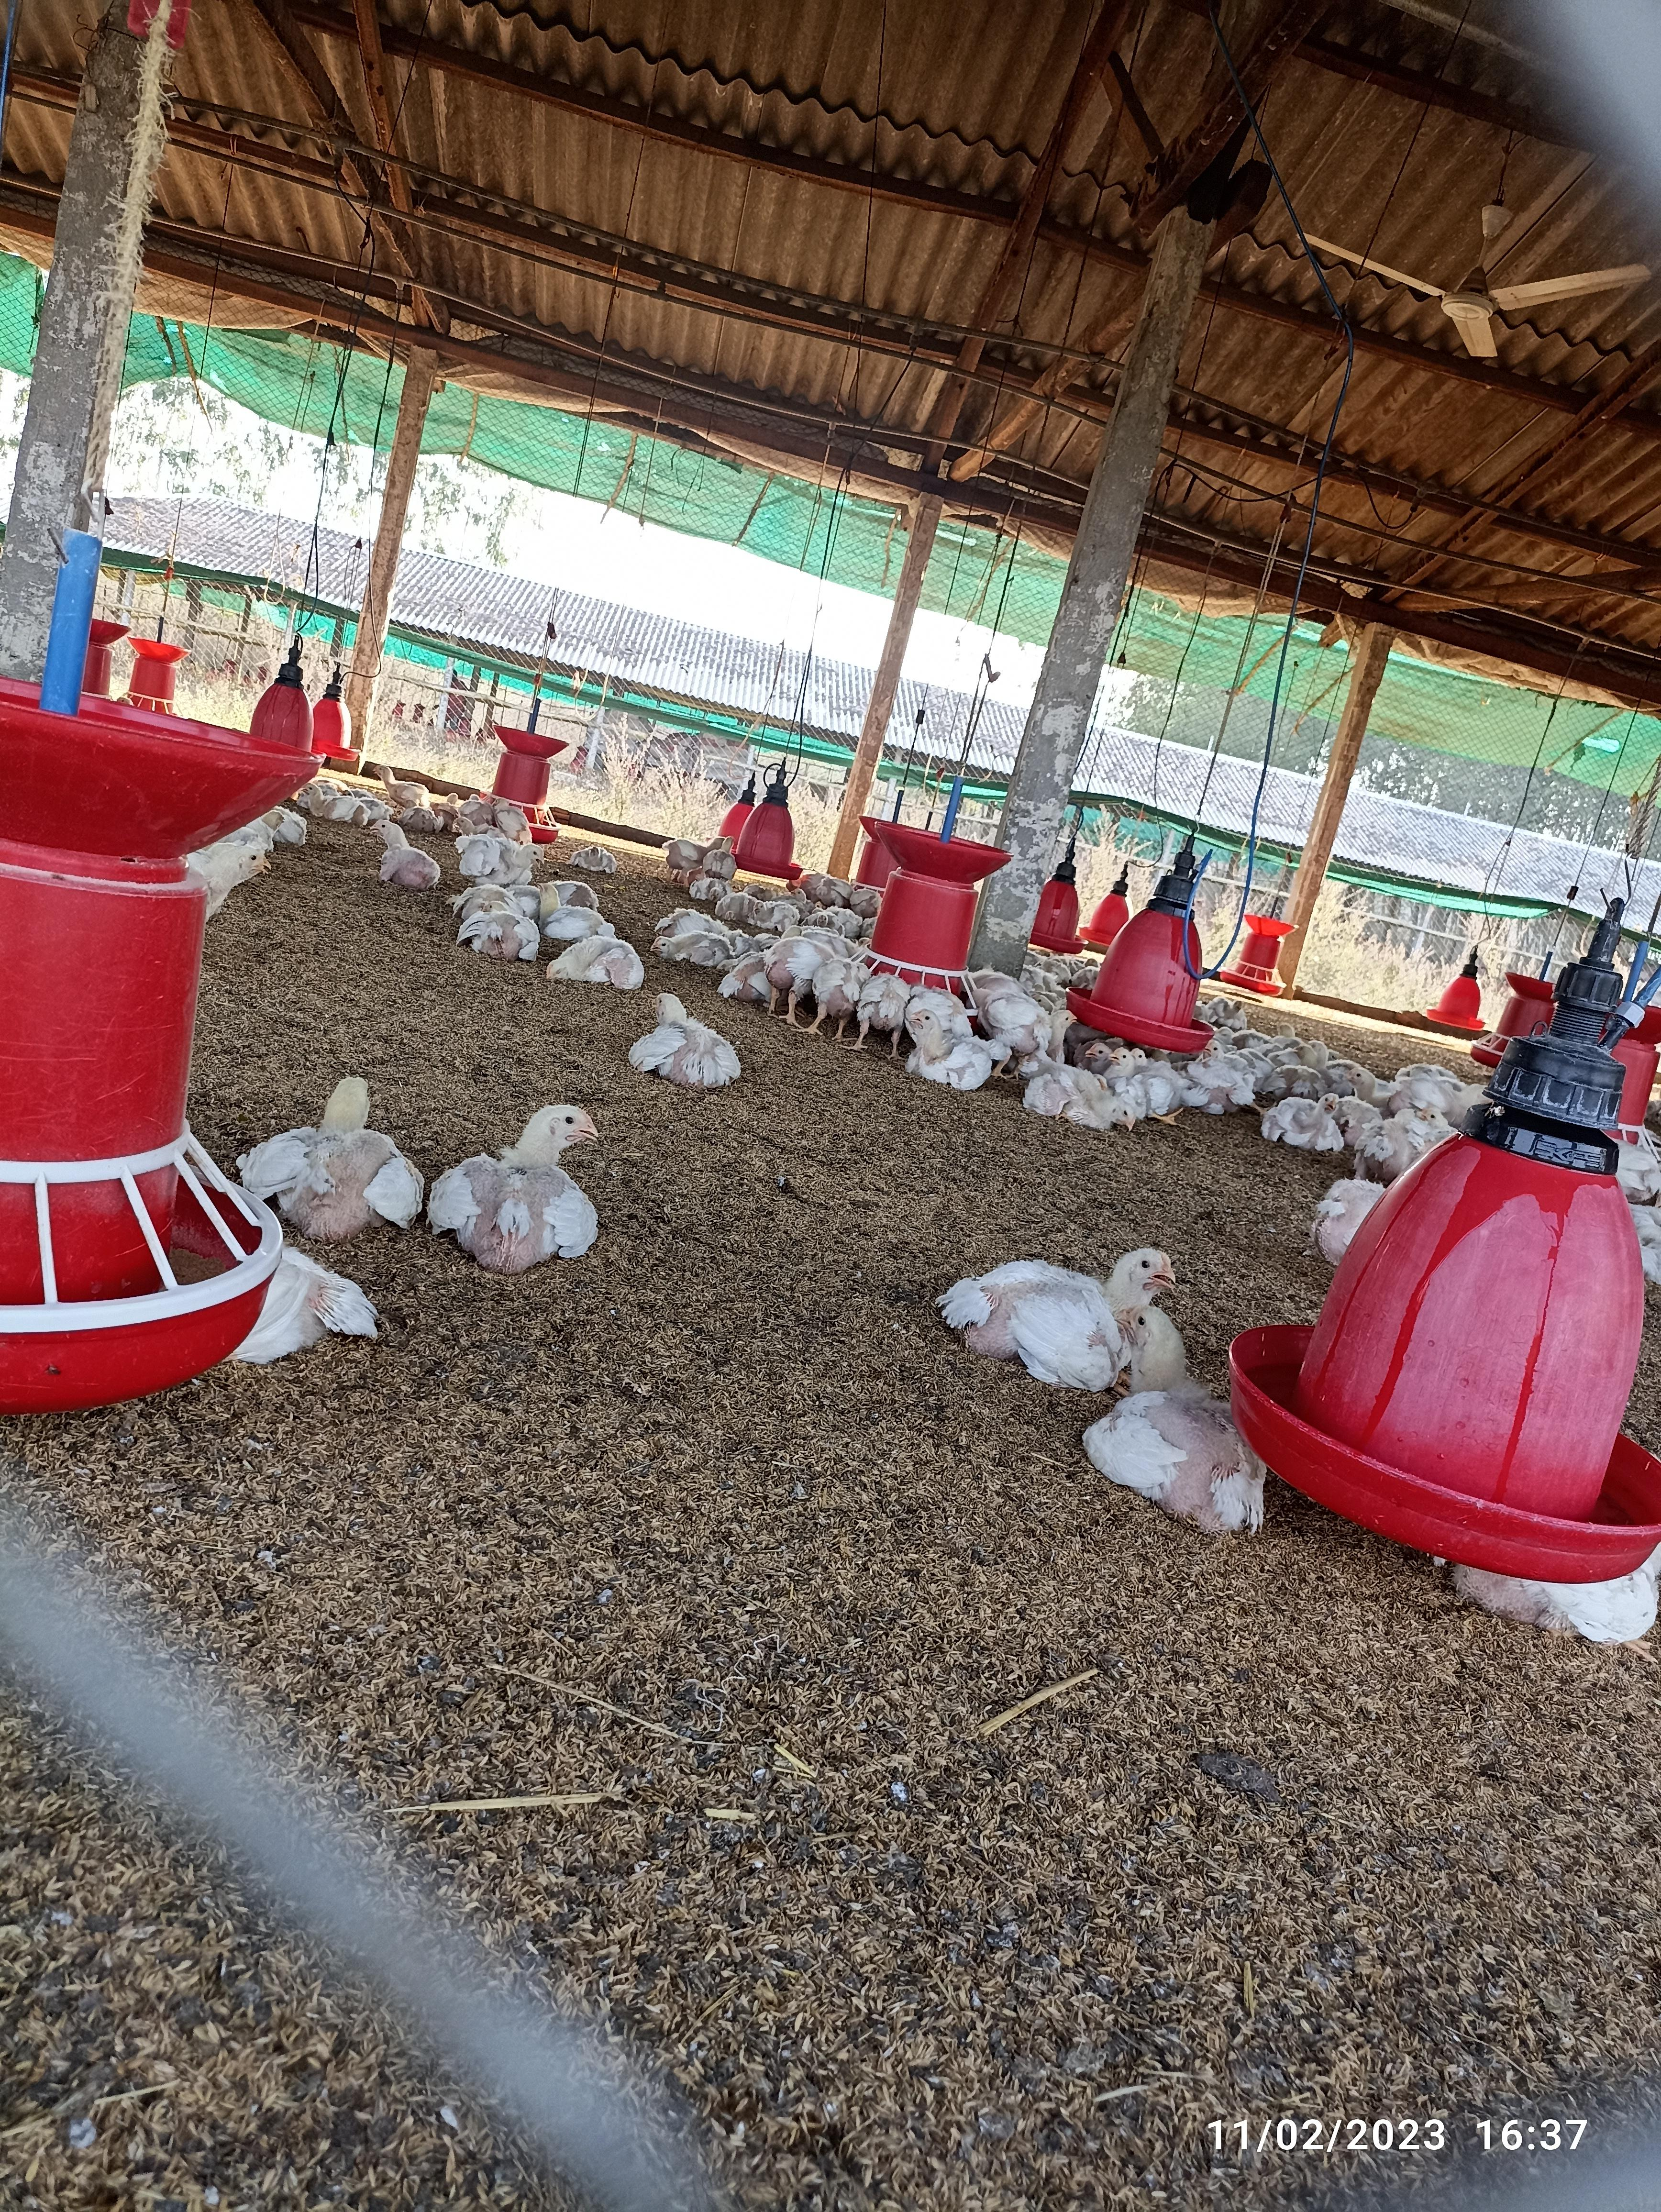Pollos: (1104, 1305, 1256, 1544), (963, 1228, 1179, 1362), (431, 1103, 598, 1272), (258, 1069, 420, 1237), (635, 975, 754, 1092), (895, 1001, 1003, 1099), (1024, 1052, 1136, 1143), (457, 900, 548, 975), (352, 809, 440, 886), (1263, 1089, 1347, 1167)
